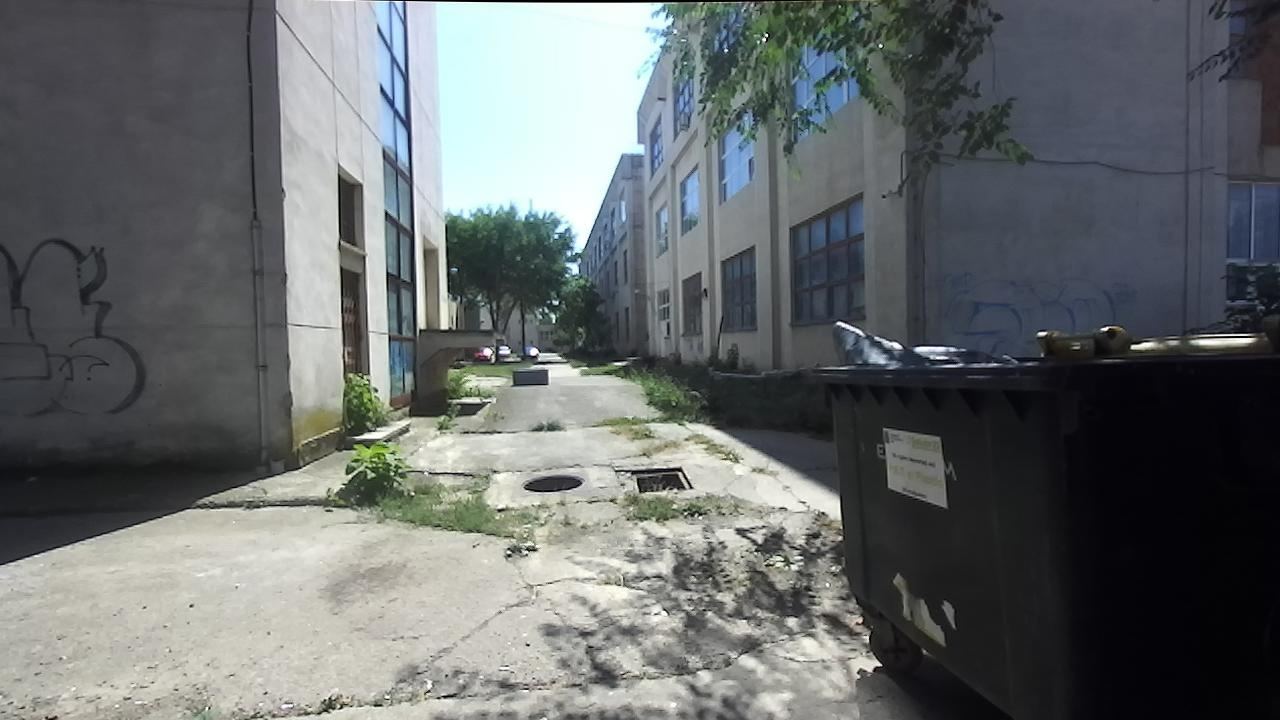drain: (626, 462, 700, 493), (518, 465, 585, 496)
